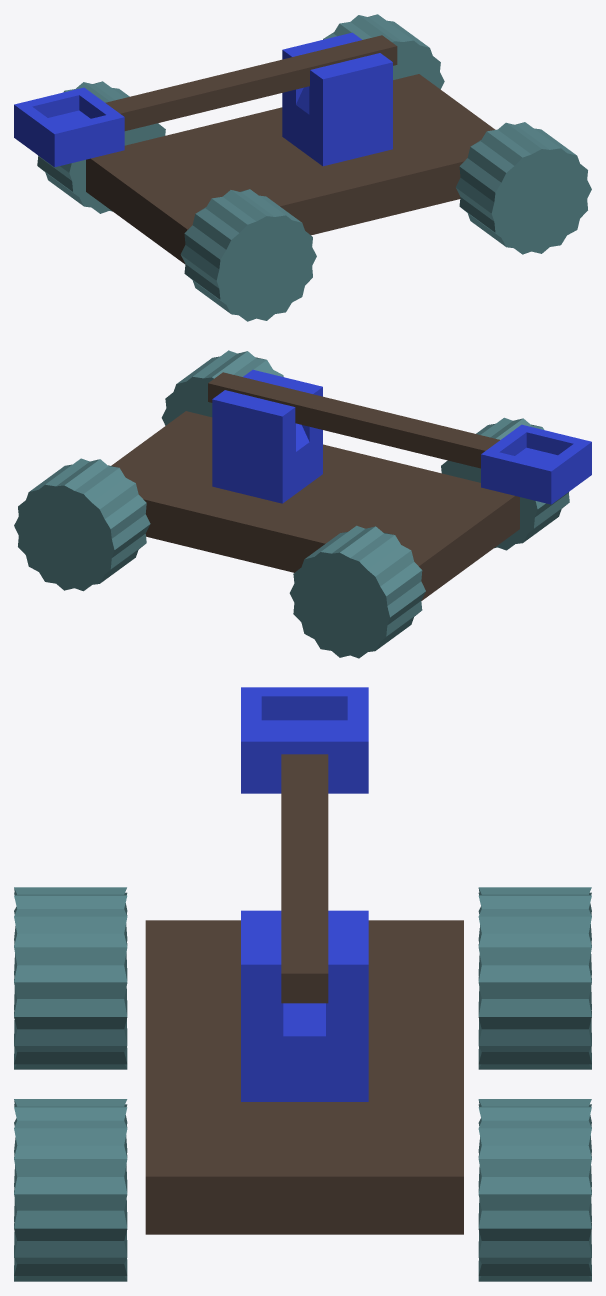
File: _iege.fbx
3 views of the same model, one above another, from view 1: azimuth 30°, elevation 25°; view 2: azimuth 150°, elevation 25°; view 3: azimuth 270°, elevation 25° (orthographic). The views are drawn at different scales.
Visible parts, largest first — view 1: Siege, Cylinder.001, Cylinder, Cube.006, Pole, Cest, Cylinder.003, Cylinder.002; view 2: Siege, Cylinder.003, Cylinder.002, Cube.006, Pole, Cest, Cylinder.001, Cylinder; view 3: Siege, Cylinder.001, Cylinder, Cylinder.003, Cylinder.002, Cube.006, Pole, Cest.
Part boxes in pixels (box(x1,y1,x2,y2)): Siege: box(86, 74, 495, 263); Cylinder.001: box(455, 122, 591, 254); Cylinder: box(180, 189, 316, 321); Cube.006: box(282, 32, 392, 166); Pole: box(105, 35, 397, 130); Cest: box(14, 87, 124, 167); Cylinder.003: box(323, 14, 444, 89); Cylinder.002: box(37, 81, 165, 213); Siege: box(111, 411, 519, 600); Cylinder.003: box(14, 458, 150, 591); Cylinder.002: box(289, 525, 425, 658); Cube.006: box(212, 369, 322, 503); Pole: box(208, 372, 499, 468); Cest: box(481, 424, 591, 504); Cylinder.001: box(161, 350, 283, 425); Cylinder: box(441, 417, 569, 550); Siege: box(145, 920, 463, 1234); Cylinder.001: box(14, 1099, 127, 1281); Cylinder: box(14, 887, 127, 1069); Cylinder.003: box(478, 1099, 591, 1281); Cylinder.002: box(478, 887, 591, 1069); Cube.006: box(241, 910, 368, 1101); Pole: box(281, 754, 328, 1003); Cest: box(241, 687, 368, 793).
Size of the model in its own units: 2023 by 2968 by 1026.
